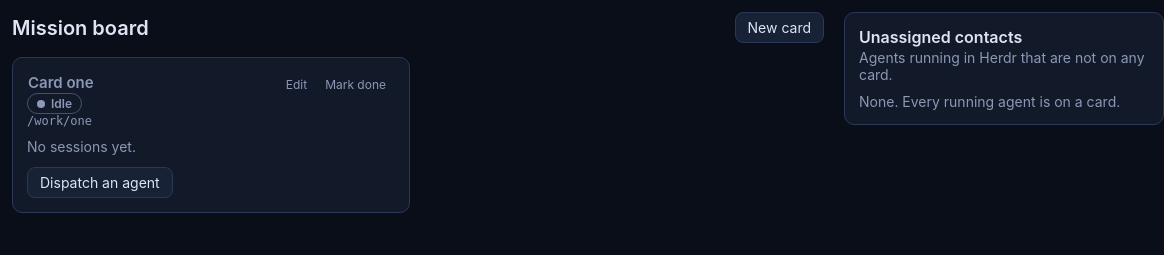
Test: Board › surfaces an update error inline
Click the button "Mark done" at (356,84), box [316,72,395,97]
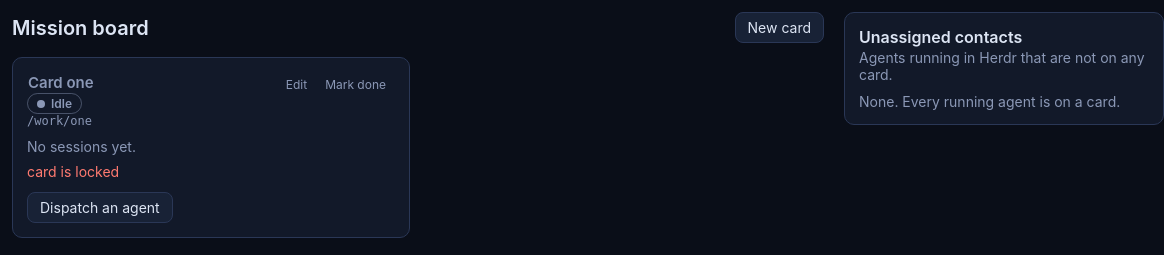
Now the text "card is locked" is shown, box [27,163,119,180]
